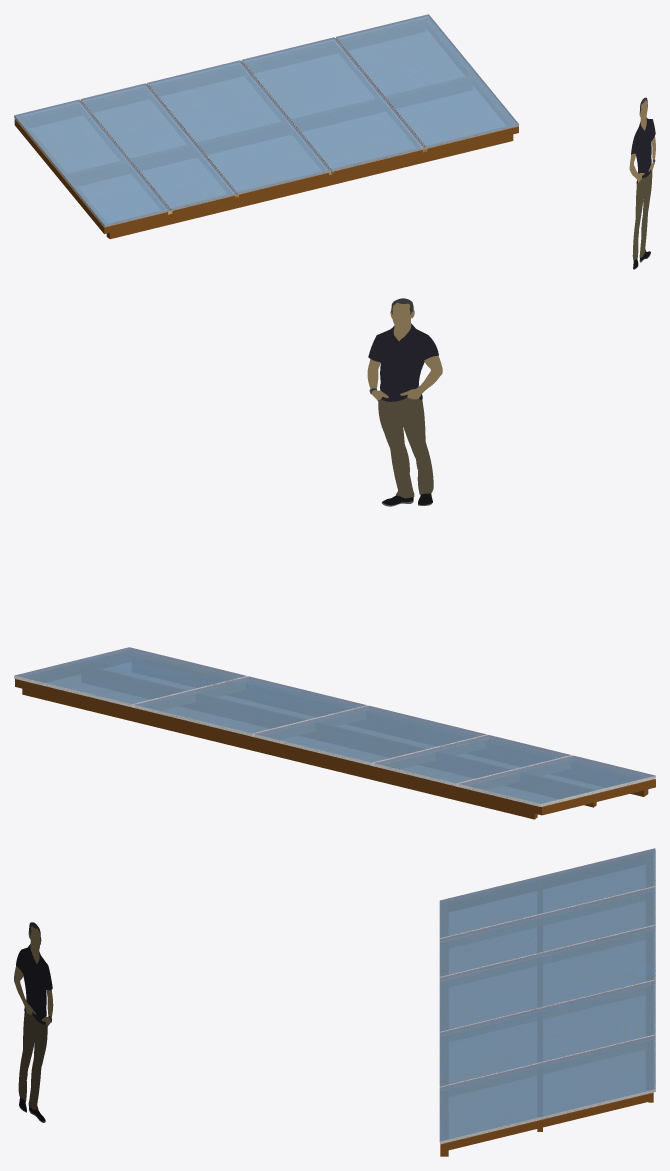
The model's file is Techo exterior.fbx.
The picture shows the model from 3 angles, top to bottom: view 1: azimuth 30°, elevation 25°; view 2: azimuth 150°, elevation 25°; view 3: azimuth 270°, elevation 25°; orthographic projection. The views are drawn at different scales.
Visible parts, largest first — view 1: Half_Roof_Panel2, Half_Roof_Panel1, Half_Roof_Panel3, Half_Roof_Panel_1_1, Half_Roof_Panel_1_2, Side_Roof_Frame_1_1, Chris1, Side_Roof_Frame1, Roof_Bar3; view 2: Chris1, Walll_Plate1, Half_Roof_Panel1, Half_Roof_Panel2, Half_Roof_Panel3, Half_Roof_Panel_1_1, Half_Roof_Panel_1_2, Side_Roof_Frame1; view 3: Half_Roof_Panel1, Half_Roof_Panel2, Half_Roof_Panel3, Half_Roof_Panel_1_2, Half_Roof_Panel_1_1, Chris1, Side_Roof_Frame2.
Part boxes in pixels (x1,y1,x2,y2): Half_Roof_Panel2: (242,37,424,171); Half_Roof_Panel1: (336,14,519,148); Half_Roof_Panel3: (147,60,330,194); Half_Roof_Panel_1_1: (14,99,169,227); Half_Roof_Panel_1_2: (80,83,235,210); Side_Roof_Frame_1_1: (106,128,513,239); Chris1: (629,97,655,269); Side_Roof_Frame1: (14,119,109,233); Roof_Bar3: (334,37,426,149); Chris1: (367,298,442,506); Walll_Plate1: (22,680,537,819); Half_Roof_Panel1: (14,647,246,707); Half_Roof_Panel2: (134,676,366,736); Half_Roof_Panel3: (254,705,486,765); Half_Roof_Panel_1_1: (458,755,655,806); Half_Roof_Panel_1_2: (373,735,570,786); Side_Roof_Frame1: (534,779,655,815); Half_Roof_Panel1: (439,1035,655,1143); Half_Roof_Panel2: (439,980,655,1086); Half_Roof_Panel3: (439,925,655,1031); Half_Roof_Panel_1_2: (439,887,655,976); Half_Roof_Panel_1_1: (439,848,655,938); Chris1: (14,922,53,1122); Side_Roof_Frame2: (440,1092,653,1152).
Size of the model in its own units: 184 by 75.01 by 207.
